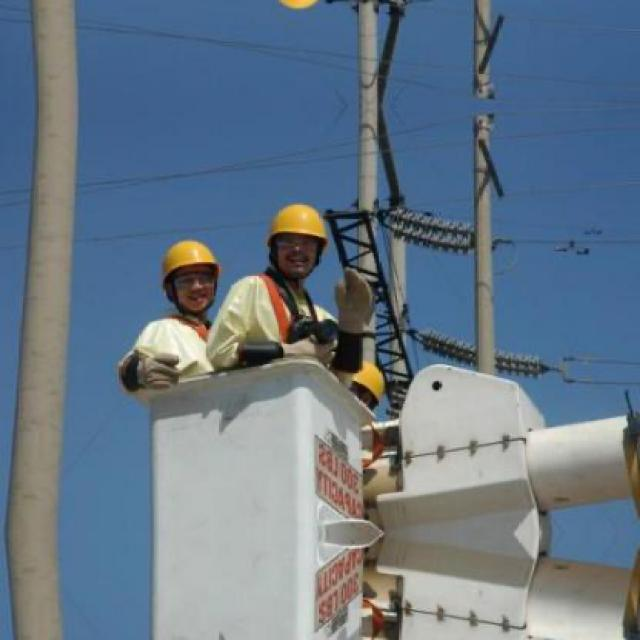helmet: (263, 196, 334, 279), (157, 233, 226, 318), (348, 364, 383, 409), (261, 0, 334, 19)
